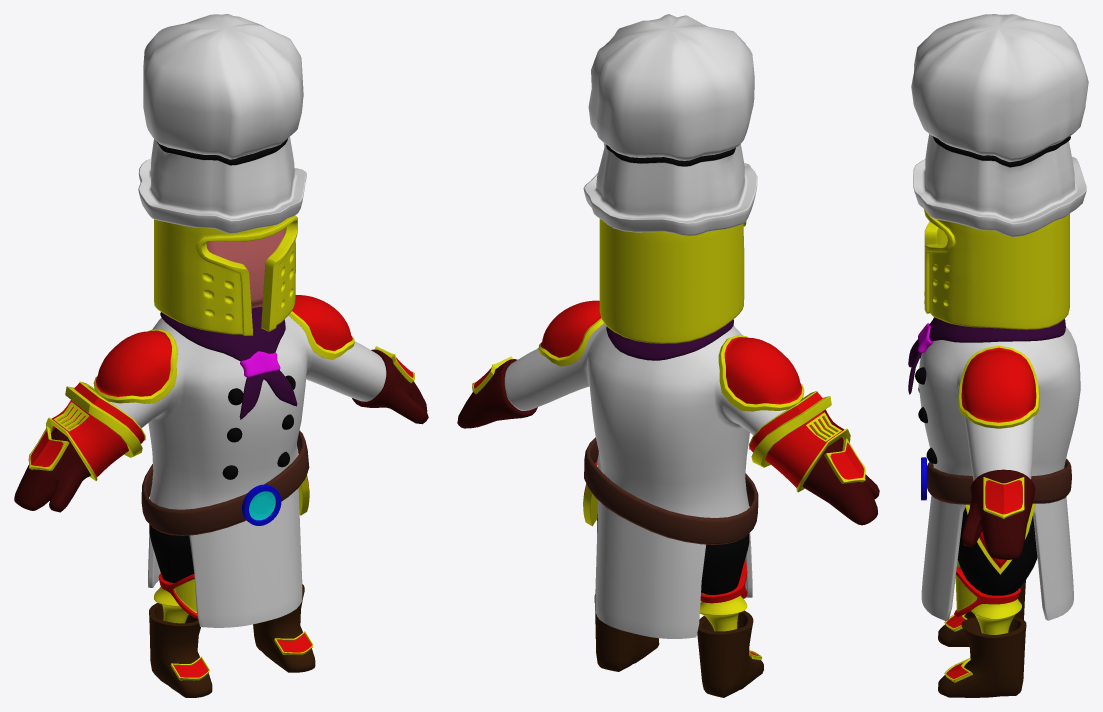
File: ironChefFinal.fbx
The picture shows the model from 3 angles, left to right: view 1: azimuth 30°, elevation 25°; view 2: azimuth 150°, elevation 25°; view 3: azimuth 270°, elevation 25°; orthographic projection.
Parts seen in each view (by area): view 1: ironChefUV; view 2: ironChefUV; view 3: ironChefUV.
Part boxes in pixels (bbox=[...]): ironChefUV: bbox=[14, 14, 428, 697]; ironChefUV: bbox=[457, 14, 879, 697]; ironChefUV: bbox=[908, 14, 1088, 697].
Bounding box in the file's own units: 362 × 543 × 139.
